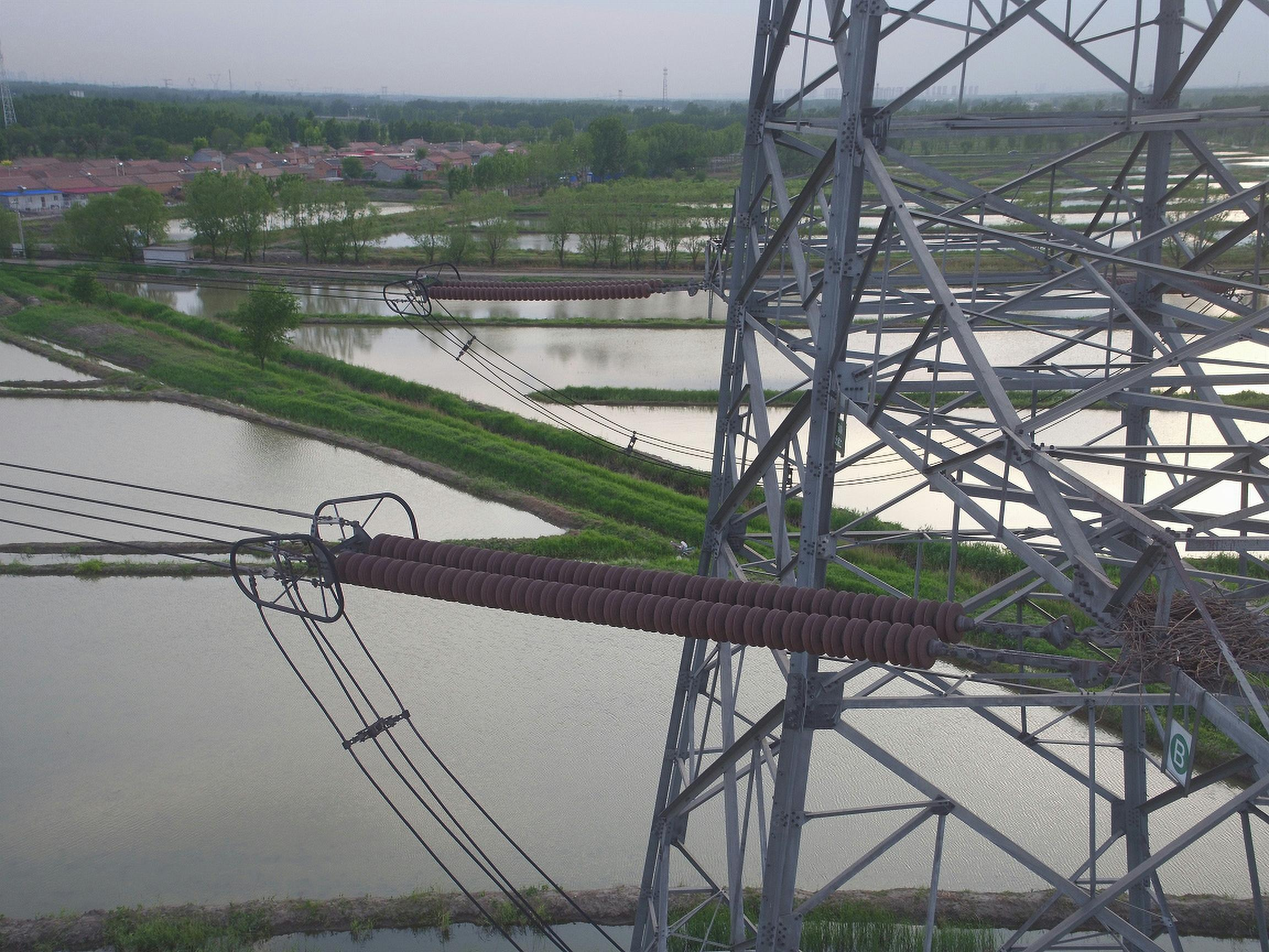insulator: (329, 531, 969, 673), (425, 277, 665, 302)
